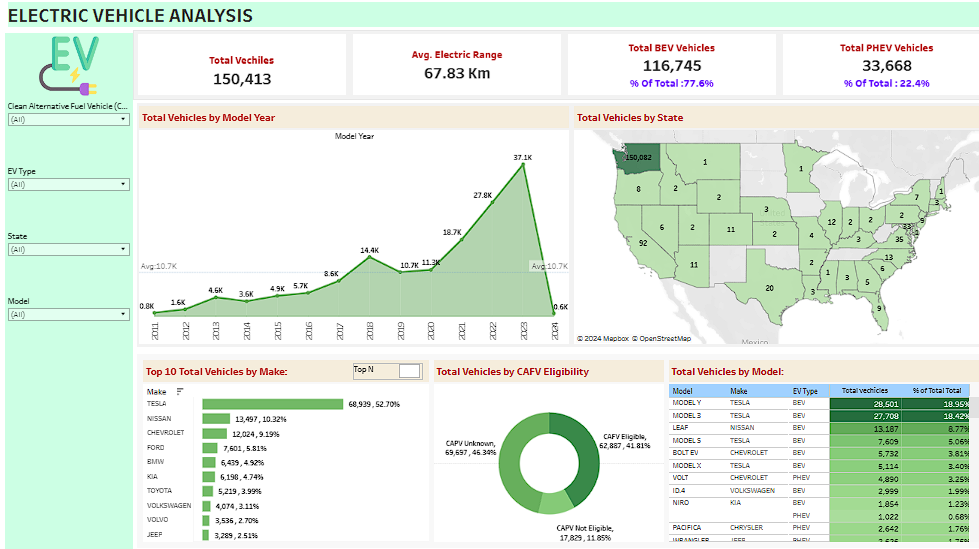

The dashboard page shown, as its layout file describes it:
{"tool":"tableau","page":{"name":"Dashboard 1","canvas":[1600,900],"ordinal":0},"visuals":[{"type":"title","box":[8,8,1584,49]},{"type":"worksheet","title":"Total Vechicles","mark":"Automatic","box":[214,58,345,110]},{"type":"worksheet","title":"Avg. Electric Range","mark":"Automatic","box":[559,58,344,110]},{"type":"worksheet","title":"Total BEV Vehicles","mark":"Automatic","box":[903,58,344,110]},{"type":"worksheet","title":"Total PHEV Vehicles ","mark":"Automatic","box":[1247,58,344,110]},{"type":"image","param":"C:/Users/Lenovo/Downloads/images-removebg-preview.png","box":[8,63,205,104]},{"type":"filter","title":"Total Vehicles by Model Year ","param":"[federated.0nq3djt1ezse0716yumsx04lplng].[none:Clean Alternative Fuel Vehicle (C","box":[8,167,205,104]},{"type":"worksheet","title":"Total Vehicles by Model Year ","mark":"Area","rows":["Calculation_1287185082901573632","Calculation_1287185082901573632"],"cols":["Model Year"],"box":[219,175,696,389]},{"type":"worksheet","title":"Total Vehicles by State","mark":"Multipolygon","box":[915,175,671,389]},{"type":"filter","title":"Total Vehicles by Model Year ","param":"[federated.0nq3djt1ezse0716yumsx04lplng].[none:Electric Vehicle Type:nk]","box":[8,271,205,104]},{"type":"filter","title":"Total Vehicles by Model Year ","param":"[federated.0nq3djt1ezse0716yumsx04lplng].[none:State:nk]","box":[8,375,205,104]},{"type":"filter","title":"Total Vehicles by Model Year ","param":"[federated.0nq3djt1ezse0716yumsx04lplng].[none:Model:nk]","box":[8,479,205,104]},{"type":"worksheet","title":"Top 10 Total Vehicles by Make:","mark":"Bar","rows":["Make"],"cols":["Calculation_1287185082901573632"],"box":[225,582,465,298]},{"type":"worksheet","title":"Total Vehicles by CAFV Eligibility","mark":"Pie","rows":["Calculation_1287185082984235015","Calculation_1287185082984235015"],"box":[690,582,376,298]},{"type":"worksheet","title":"Total Vehicles by Model:","mark":"Square","rows":["Model","Make","Electric Vehicle Type"],"box":[1066,582,514,298]},{"type":"blank","box":[8,583,205,103]},{"type":"blank","box":[8,686,205,103]},{"type":"blank","box":[8,789,205,103]}]}

Visuals, with their boxes in screenshot pixels (x1, y1, x2, y2), scaled from the page's 1600x900 canvas onto the 979x549 screenshot:
title: x1=5 y1=5 x2=974 y2=35
"Total Vechicles" worksheet: x1=131 y1=35 x2=342 y2=102
"Avg. Electric Range" worksheet: x1=342 y1=35 x2=553 y2=102
"Total BEV Vehicles" worksheet: x1=553 y1=35 x2=763 y2=102
"Total PHEV Vehicles " worksheet: x1=763 y1=35 x2=973 y2=102
image: x1=5 y1=38 x2=130 y2=102
"Total Vehicles by Model Year " filter: x1=5 y1=102 x2=130 y2=165
"Total Vehicles by Model Year " worksheet (Area marks): x1=134 y1=107 x2=560 y2=344
"Total Vehicles by State" worksheet (Multipolygon marks): x1=560 y1=107 x2=970 y2=344
"Total Vehicles by Model Year " filter: x1=5 y1=165 x2=130 y2=229
"Total Vehicles by Model Year " filter: x1=5 y1=229 x2=130 y2=292
"Total Vehicles by Model Year " filter: x1=5 y1=292 x2=130 y2=356
"Top 10 Total Vehicles by Make:" worksheet (Bar marks): x1=138 y1=355 x2=422 y2=537
"Total Vehicles by CAFV Eligibility" worksheet (Pie marks): x1=422 y1=355 x2=652 y2=537
"Total Vehicles by Model:" worksheet (Square marks): x1=652 y1=355 x2=967 y2=537
blank: x1=5 y1=356 x2=130 y2=418
blank: x1=5 y1=418 x2=130 y2=481
blank: x1=5 y1=481 x2=130 y2=544
